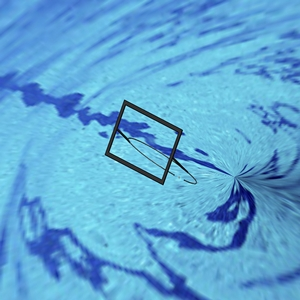circle: (102, 97, 198, 186)
